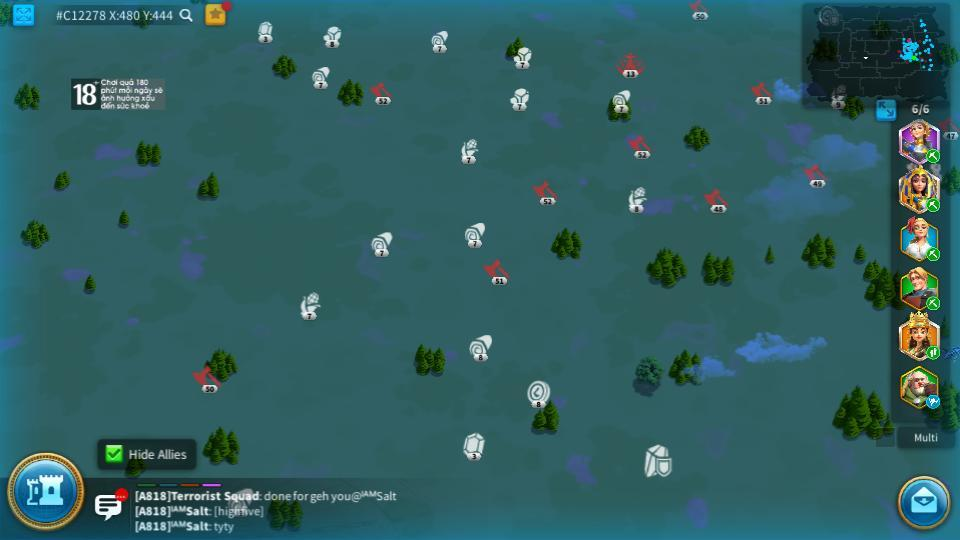gem-z-out: (462, 432, 485, 459), (255, 20, 273, 41)
march_farming: (925, 197, 941, 212)
march_idle: (925, 395, 942, 407)
march_marching: (925, 347, 941, 359), (925, 148, 941, 159), (926, 297, 941, 308)
